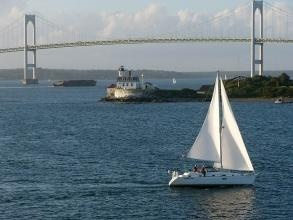fanchuan: (160, 70, 269, 194)
